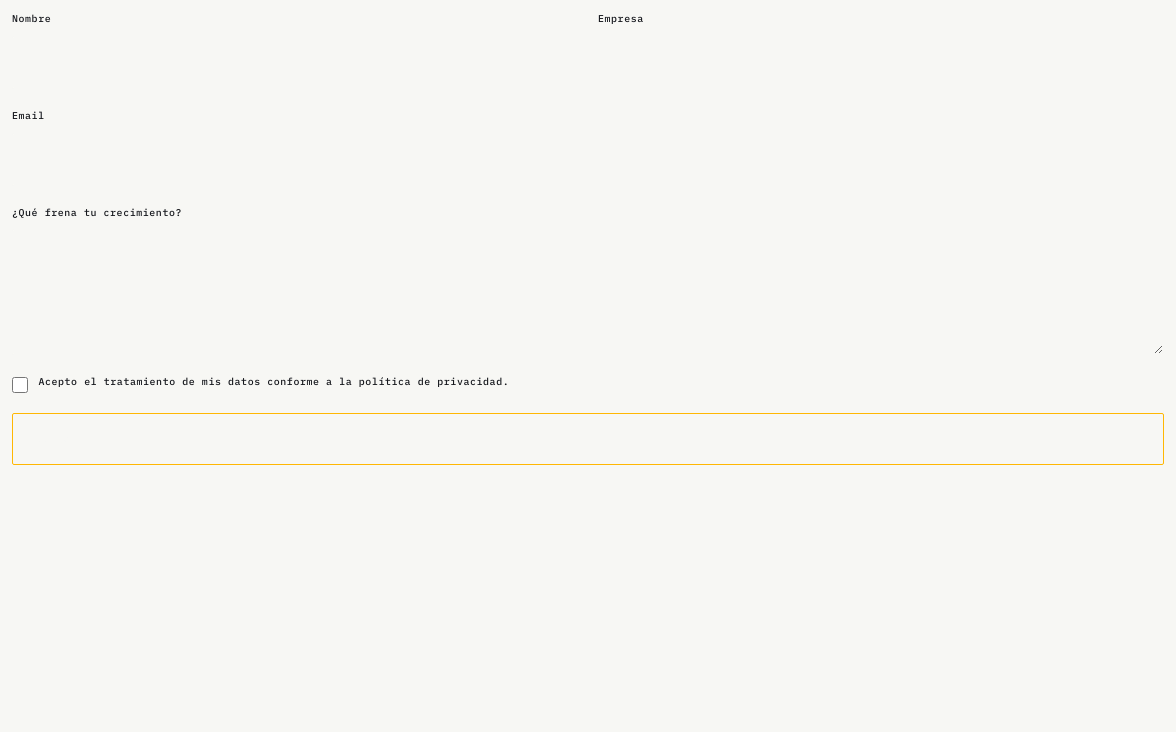
Test: ContactForm › shows required-field errors on empty submit
The image size is (1176, 732).
Step 1. Click the button "Enviar ↗" → {"x": 49, "y": 439}, box x1=12 y1=413 x2=1164 y2=465
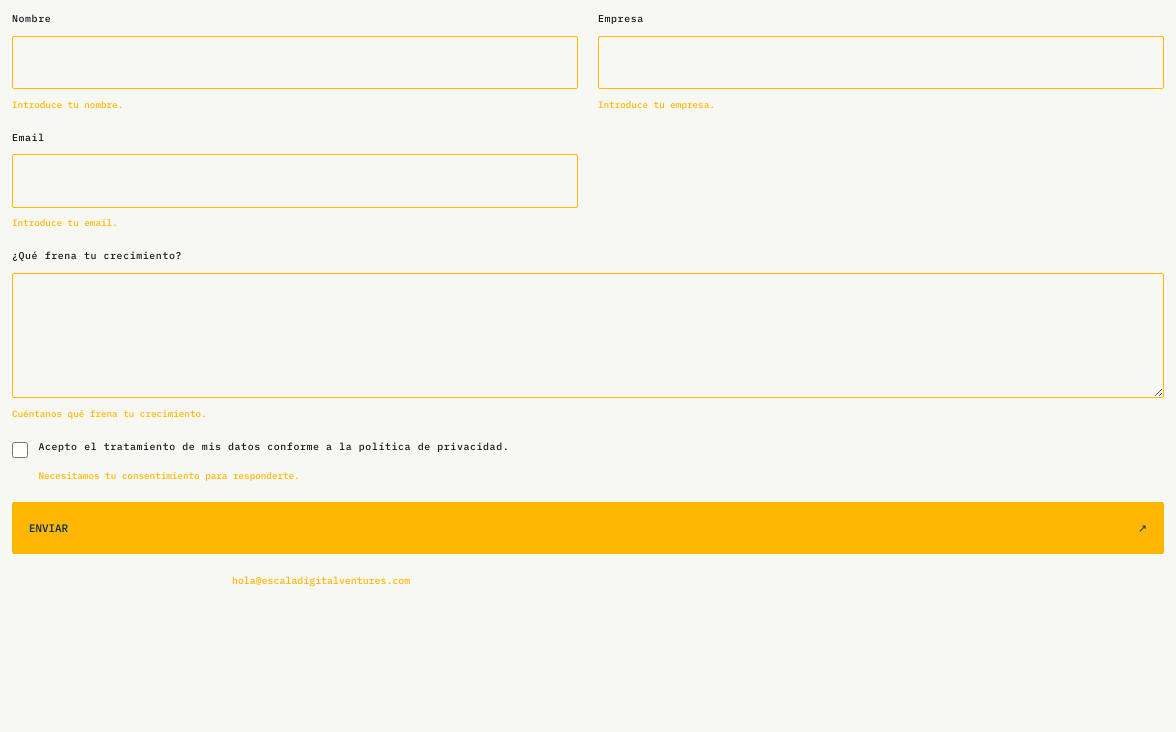
Expected: the text "Introduce tu nombre." is shown, x1=12 y1=98 x2=123 y2=111
Expected: the text "Introduce tu empresa." is shown, x1=598 y1=98 x2=715 y2=111
